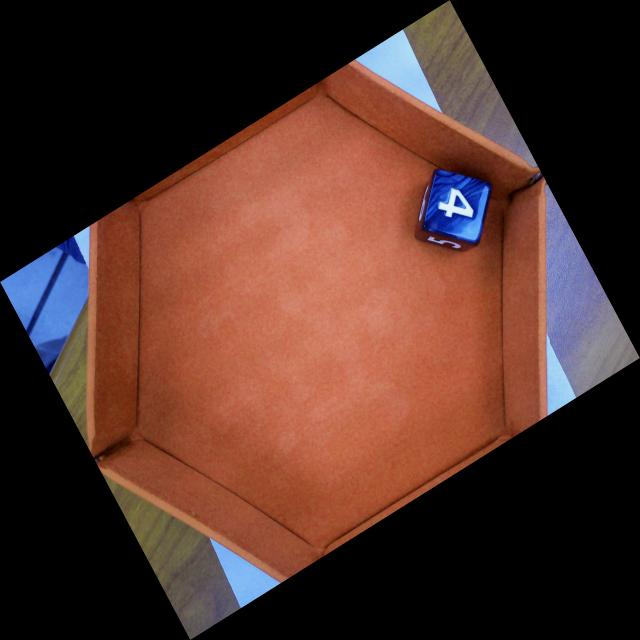dice: (418, 166, 495, 246)
